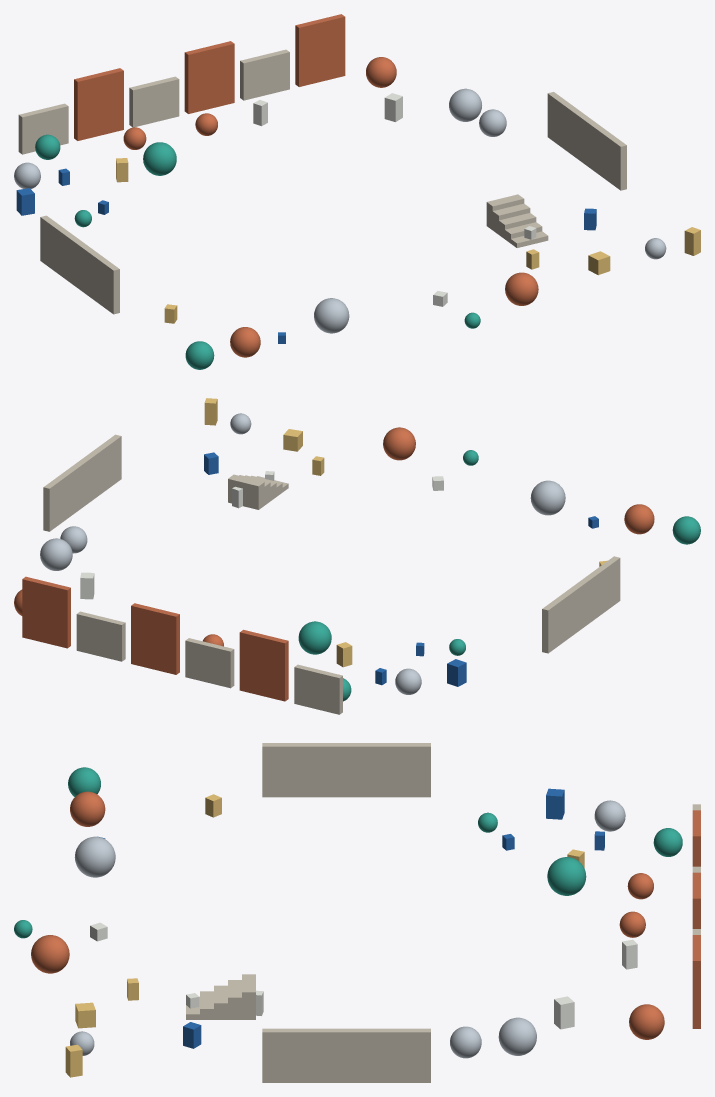
File: playground.glb
The picture shows the model from 3 angles, top to bottom: view 1: azimuth 30°, elevation 25°; view 2: azimuth 150°, elevation 25°; view 3: azimuth 270°, elevation 25°; orthographic projection. The views are drawn at different scales.
Visible parts, largest first — view 1: walls-6, walls-7, walls-3, walls-5, walls-1, walls-2, walls-4, walls-0, spheres-4, spheres-14, spheres-12, spheres-10 (+5 smaller); view 2: walls-6, walls-7, walls-1, walls-5, walls-3, walls-4, walls-2, walls-0, spheres-4, spheres-14, steps-4, spheres-12 (+5 smaller); view 3: walls-6, walls-7, spheres-4, spheres-14, spheres-12, spheres-10, spheres-3, spheres-0, walls-5, spheres-13, spheres-1, spheres-11 (+8 smaller).
Boxes of the visible parts, left/top/right/bottom form: walls-6: left=40, top=215, right=119, bottom=314; walls-7: left=547, top=92, right=626, bottom=190; walls-3: left=184, top=41, right=234, bottom=113; walls-5: left=295, top=14, right=345, bottom=86; walls-1: left=74, top=68, right=123, bottom=140; walls-2: left=129, top=76, right=179, bottom=127; walls-4: left=240, top=49, right=289, bottom=100; walls-0: left=18, top=103, right=68, bottom=154; spheres-4: left=314, top=298, right=349, bottom=333; spheres-14: left=143, top=142, right=176, bottom=175; spheres-12: left=505, top=272, right=538, bottom=305; spheres-10: left=449, top=88, right=481, bottom=121; walls-6: left=542, top=556, right=620, bottom=653; walls-7: left=43, top=434, right=121, bottom=531; walls-1: left=239, top=629, right=288, bottom=701; walls-5: left=22, top=576, right=70, bottom=648; walls-3: left=131, top=603, right=179, bottom=674; walls-4: left=76, top=611, right=125, bottom=661; walls-2: left=185, top=638, right=234, bottom=688; walls-0: left=294, top=664, right=342, bottom=714; spheres-4: left=530, top=480, right=565, bottom=515; spheres-14: left=298, top=621, right=331, bottom=654; steps-4: left=228, top=474, right=264, bottom=509; spheres-12: left=383, top=427, right=415, bottom=460; walls-6: left=262, top=743, right=430, bottom=797; walls-7: left=262, top=1028, right=430, bottom=1082; spheres-4: left=74, top=836, right=115, bottom=877; spheres-14: left=547, top=857, right=586, bottom=895; spheres-12: left=31, top=935, right=69, bottom=973; spheres-10: left=498, top=1017, right=536, bottom=1055; spheres-3: left=629, top=1004, right=664, bottom=1039; spheres-0: left=70, top=791, right=105, bottom=826; walls-5: left=692, top=935, right=700, bottom=1028; spheres-13: left=450, top=1026, right=481, bottom=1058; spheres-1: left=594, top=800, right=625, bottom=831; spheres-11: left=68, top=767, right=100, bottom=796.
Size of what is drawn, in the model's own units: 82.52 by 9.04 by 82.37.
